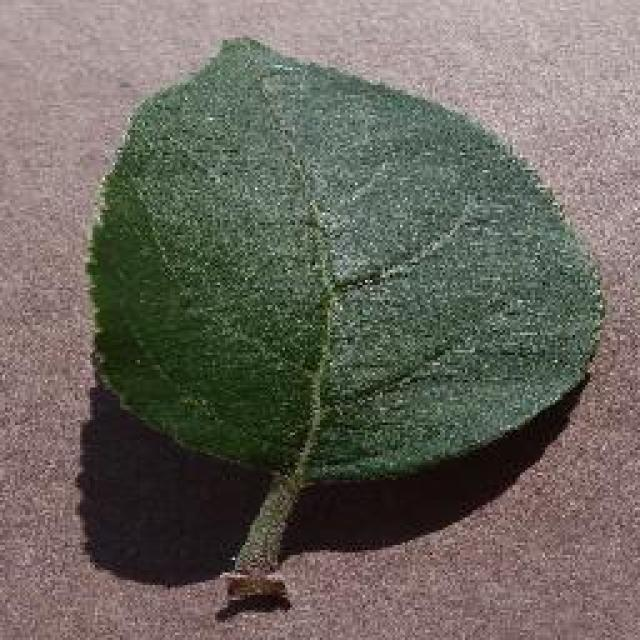apple scab disease: (80, 33, 605, 605)
